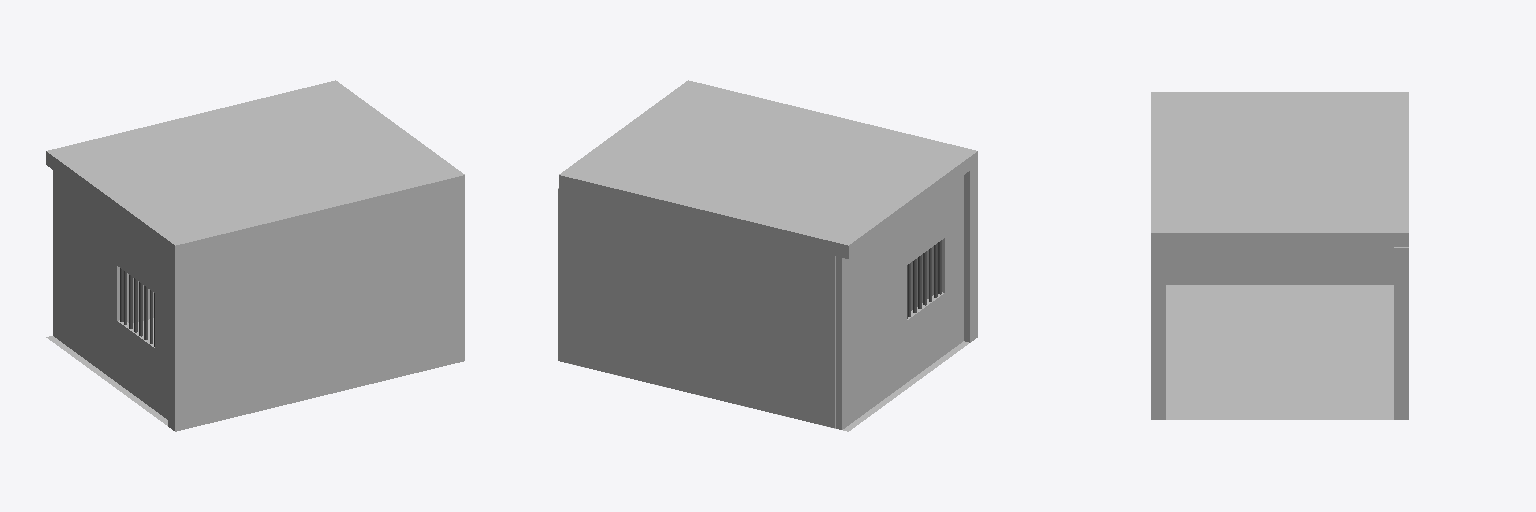
The model's file is Zelle_neu_comb4.obj.
3 views of the same model, side by side, from view 1: azimuth 30°, elevation 25°; view 2: azimuth 150°, elevation 25°; view 3: azimuth 270°, elevation 25° (orthographic).
Visible parts, largest first — view 1: Wand2, Dach, Fenster, Bars, Boden; view 2: Seite, Dach, Fenster, Wand2, Bars, Boden; view 3: Dach, Boden, Fenster, Wand2, Seite.
Part boxes in pixels (left/top/right/bottom): Wand2: left=168, top=189, right=464, bottom=431; Dach: left=46, top=80, right=464, bottom=259; Fenster: left=53, top=170, right=188, bottom=429; Bars: left=120, top=268, right=154, bottom=346; Boden: left=46, top=318, right=167, bottom=425; Seite: left=558, top=188, right=835, bottom=427; Dach: left=559, top=80, right=977, bottom=258; Fenster: left=836, top=175, right=963, bottom=429; Wand2: left=911, top=165, right=977, bottom=342; Bars: left=907, top=240, right=941, bottom=318; Boden: left=568, top=341, right=968, bottom=431; Dach: left=1151, top=92, right=1408, bottom=246; Boden: left=1166, top=285, right=1393, bottom=419; Fenster: left=1166, top=247, right=1393, bottom=284; Wand2: left=1151, top=247, right=1165, bottom=419; Seite: left=1394, top=247, right=1408, bottom=419.
Bounding box in the file's own units: 4.41 × 2.7 × 3.4.